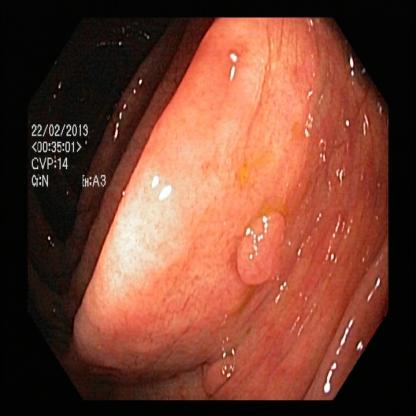Labels: (27, 111, 111, 205)
Polyps: (232, 194, 294, 294)
